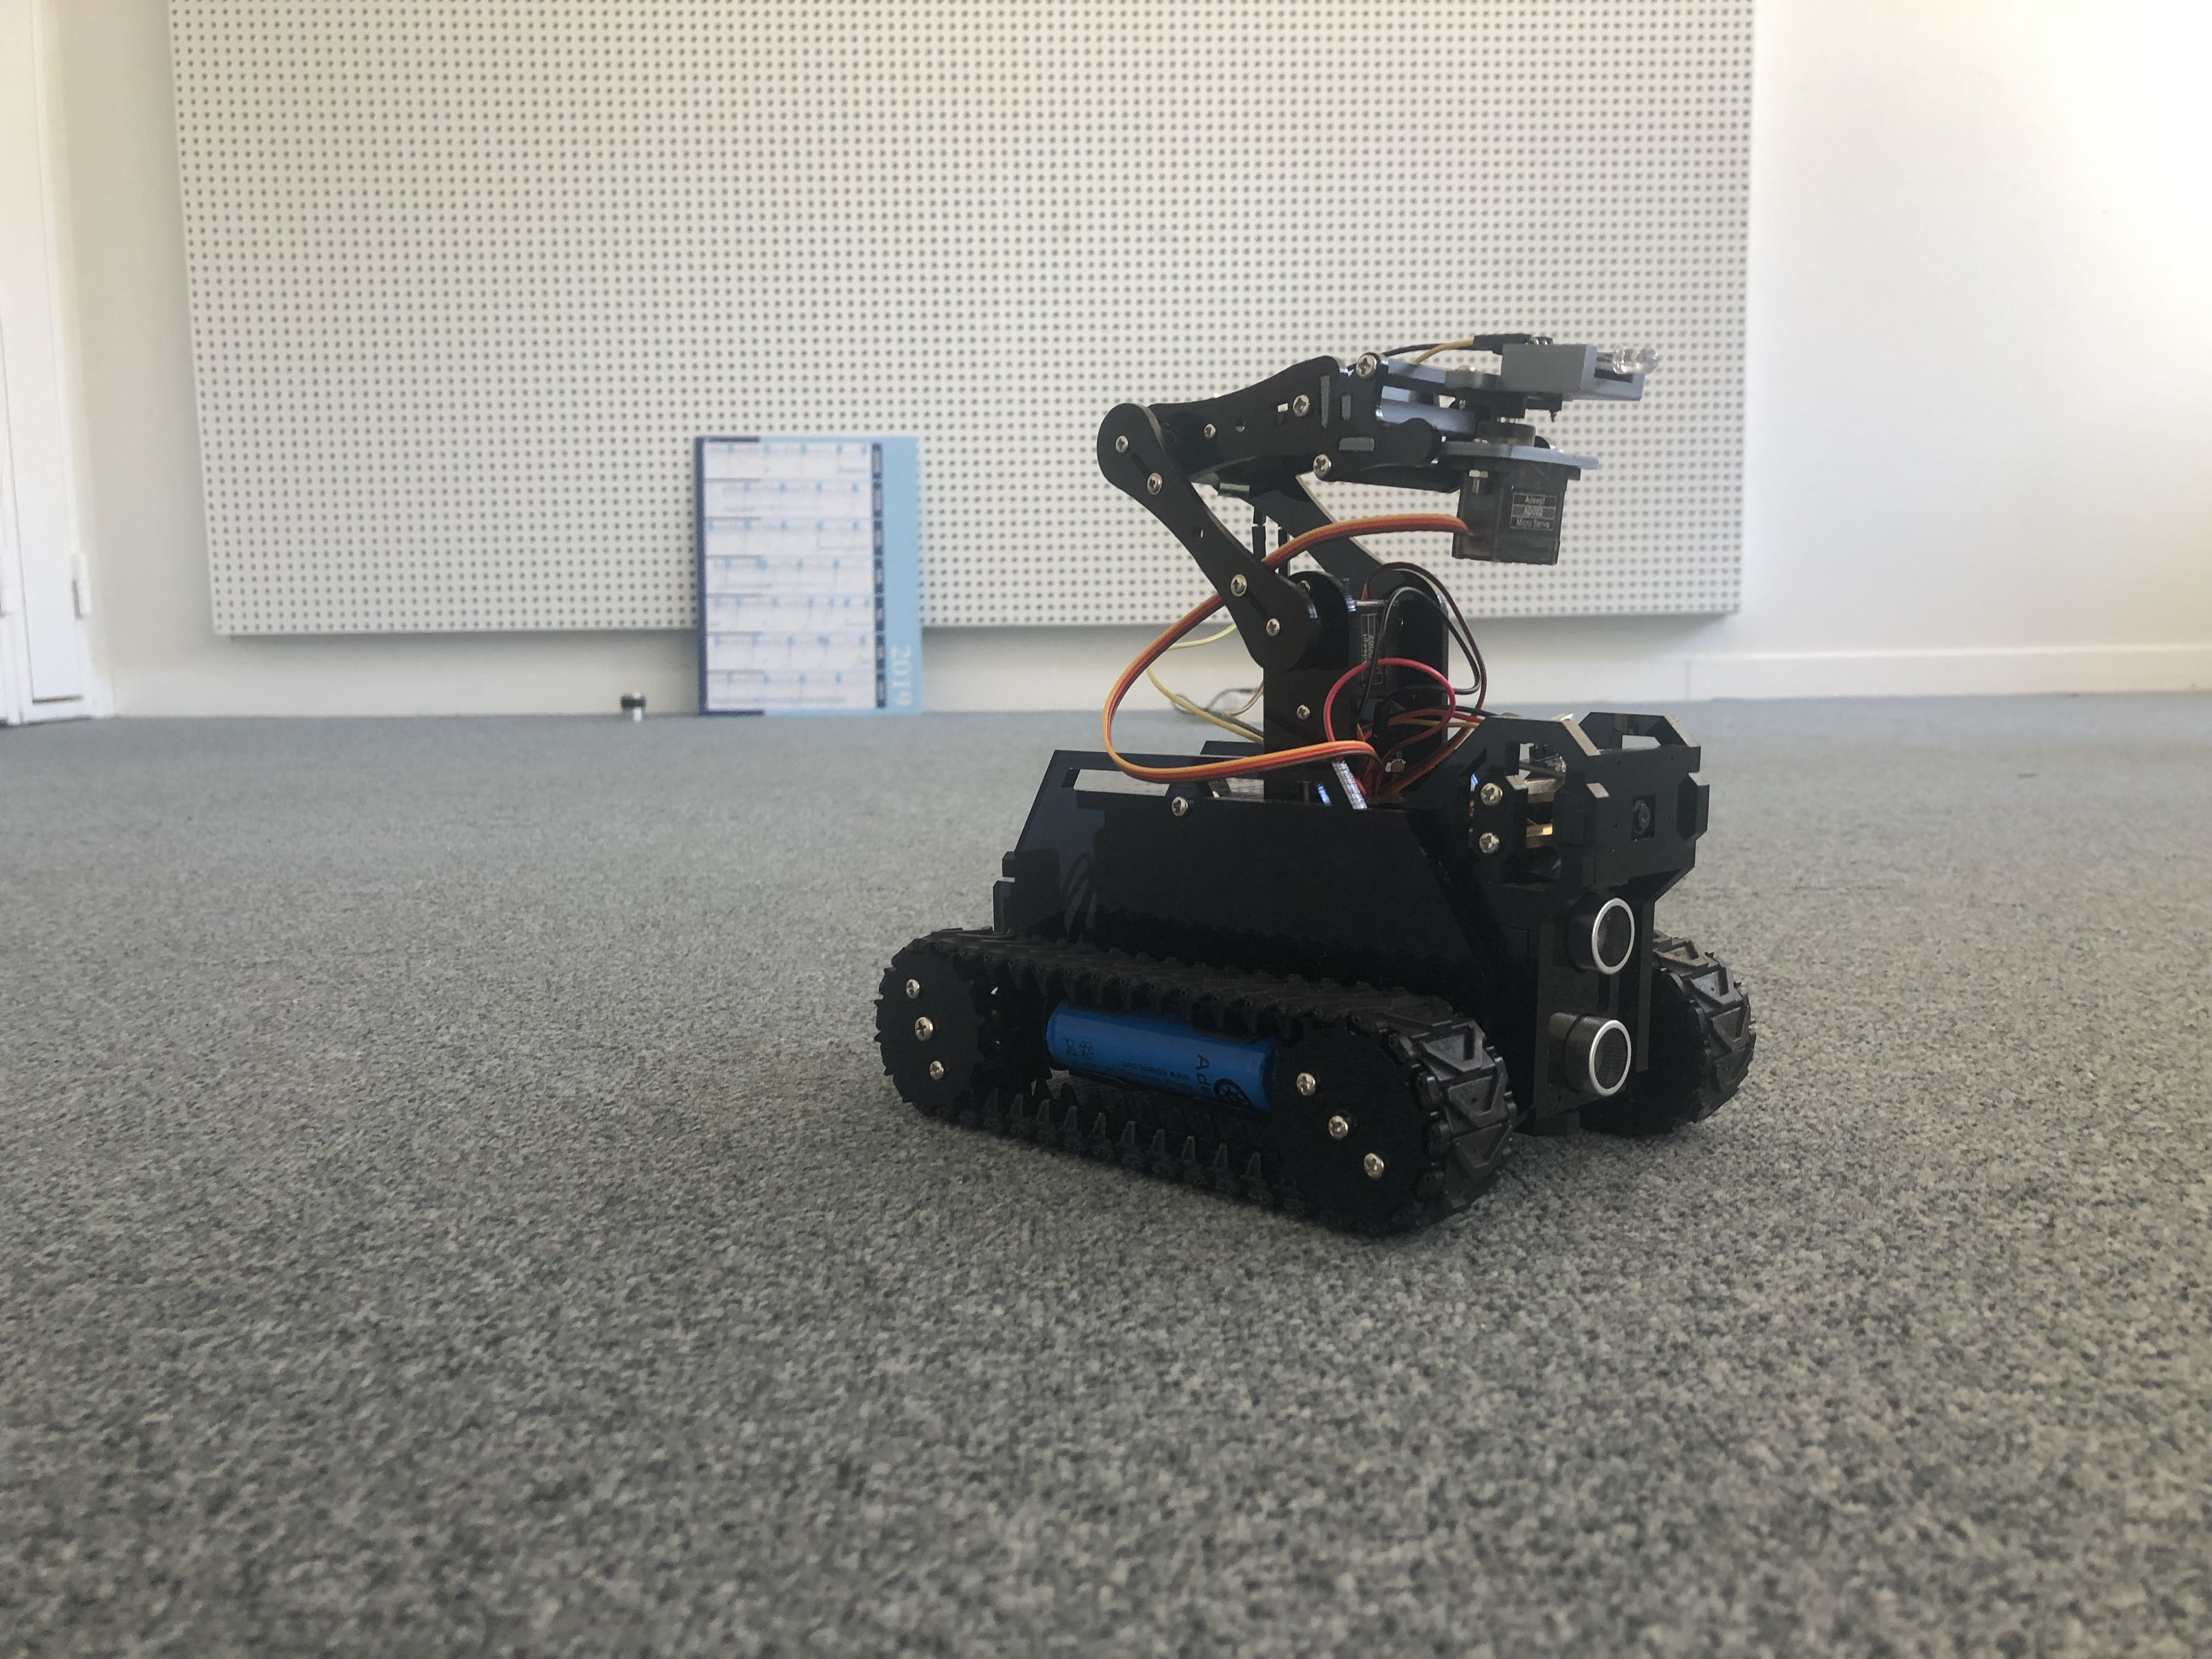rasptank: (867, 310, 1811, 1237)
